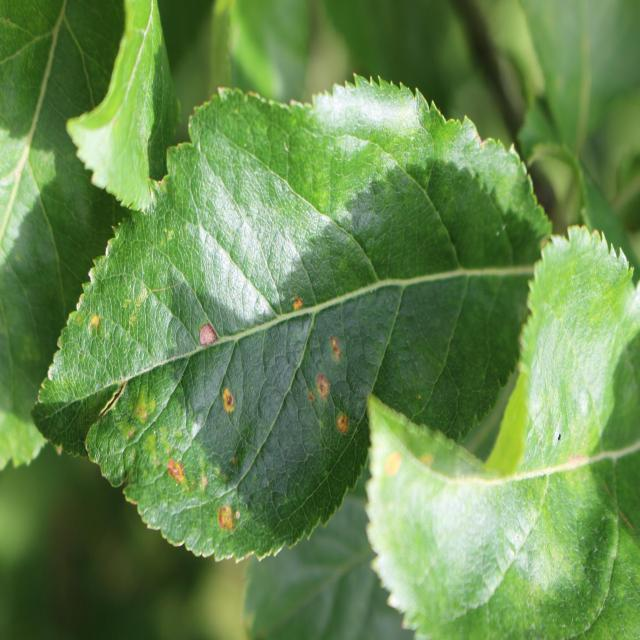Black Rot: (185, 306, 227, 368)
Rust: (378, 440, 419, 515), (79, 299, 119, 354), (201, 492, 247, 538), (124, 388, 164, 435), (276, 289, 316, 334), (218, 382, 248, 434), (302, 362, 336, 402), (161, 457, 188, 500), (322, 325, 345, 372), (83, 300, 108, 342), (334, 404, 354, 449)
